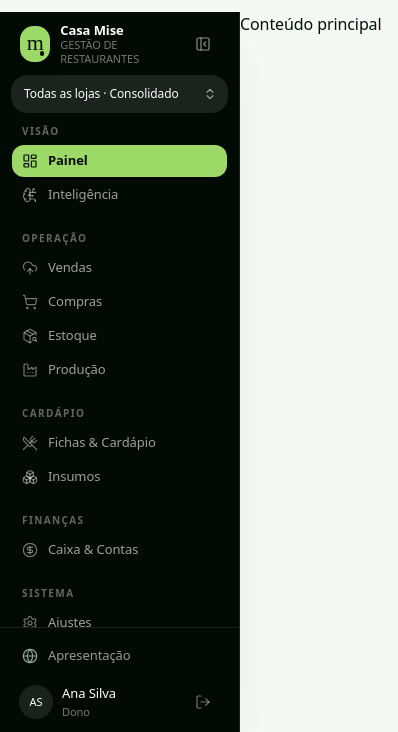
Test case: Navegação lateral recolhível › recolhe para uma faixa compacta e permite expandir novamente sem perder a navegação
This screenshot has width=398, height=732.
Click the button named "Recolher menu lateral".
click(203, 44)  # box [187, 28, 219, 60]
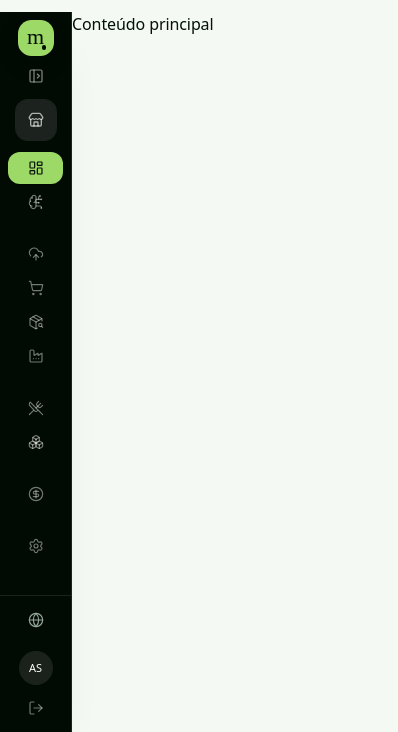
Expected: the button named "Painel" is shown, [8, 152, 63, 184]
Expected: the button named "Expandir menu lateral" is collapsed
Click the button named "Expandir menu lateral".
click(36, 76)  # box [20, 60, 52, 92]
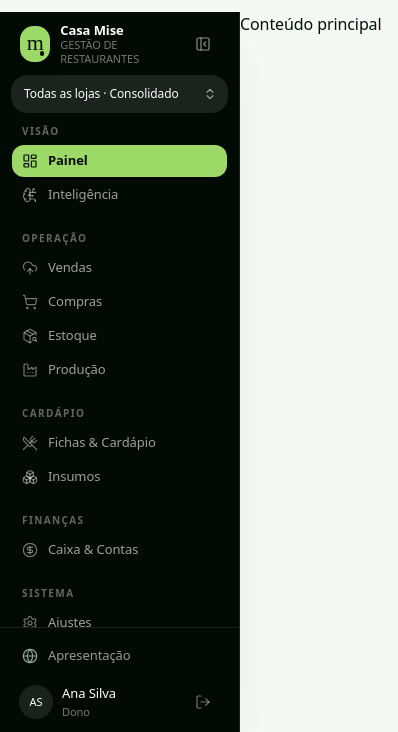
Expected: the button named "Recolher menu lateral" is expanded, [187, 28, 219, 60]
